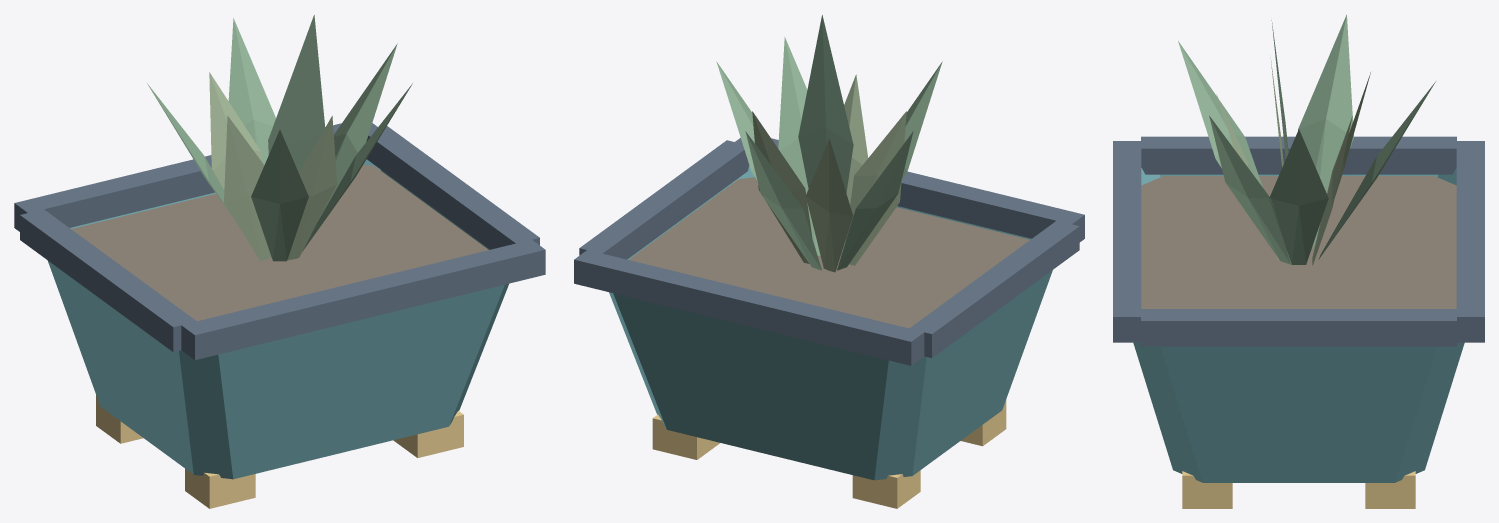
File: planter.glb
3 renders of one model, left to right at view 1: azimuth 30°, elevation 25°; view 2: azimuth 150°, elevation 25°; view 3: azimuth 270°, elevation 25°, orthographic. The views are drawn at different scales.
Parts seen in each view (by area): view 1: planter_body, planter_soil, planter_front_lip, planter_side_lip, planter_side_lip.001, planter_front_lip.001, planter_leaf_6, planter_centre_leaf, planter_leaf_5, planter_leaf_2, planter_leaf_7, planter_leaf_0 (+6 smaller); view 2: planter_body, planter_soil, planter_front_lip.001, planter_side_lip, planter_side_lip.001, planter_front_lip, planter_centre_leaf, planter_leaf_3, planter_leaf_8, planter_leaf_2, planter_leaf_4, planter_leaf_5 (+7 smaller); view 3: planter_body, planter_soil, planter_side_lip.001, planter_side_lip, planter_front_lip.001, planter_front_lip, planter_leaf_4, planter_leaf_0, planter_leaf_8, planter_leaf_6, planter_foot.002, planter_foot.003 (+3 smaller).
Part boxes in pixels (bbox=[...]): planter_body: bbox=[47, 159, 508, 479]; planter_soil: bbox=[71, 164, 488, 321]; planter_front_lip: bbox=[181, 239, 545, 359]; planter_side_lip: bbox=[20, 209, 196, 352]; planter_side_lip.001: bbox=[366, 126, 539, 249]; planter_front_lip.001: bbox=[14, 123, 377, 231]; planter_leaf_6: bbox=[251, 130, 308, 261]; planter_centre_leaf: bbox=[268, 15, 325, 172]; planter_leaf_5: bbox=[224, 116, 271, 260]; planter_leaf_2: bbox=[228, 18, 275, 164]; planter_leaf_7: bbox=[287, 116, 337, 260]; planter_leaf_0: bbox=[318, 43, 397, 220]; planter_body: bbox=[609, 165, 1052, 480]; planter_soil: bbox=[629, 177, 1029, 328]; planter_front_lip.001: bbox=[574, 250, 924, 365]; planter_side_lip: bbox=[909, 221, 1079, 358]; planter_side_lip.001: bbox=[579, 140, 749, 259]; planter_front_lip: bbox=[735, 138, 1084, 242]; planter_centre_leaf: bbox=[798, 15, 853, 192]; planter_leaf_3: bbox=[806, 138, 852, 272]; planter_leaf_8: bbox=[778, 37, 820, 255]; planter_leaf_2: bbox=[745, 131, 821, 270]; planter_leaf_4: bbox=[837, 131, 913, 270]; planter_leaf_5: bbox=[845, 111, 906, 265]; planter_body: bbox=[1133, 168, 1464, 482]; planter_soil: bbox=[1141, 176, 1456, 308]; planter_side_lip.001: bbox=[1141, 309, 1456, 346]; planter_side_lip: bbox=[1141, 136, 1456, 174]; planter_front_lip.001: bbox=[1456, 141, 1484, 342]; planter_front_lip: bbox=[1113, 141, 1141, 342]; planter_leaf_4: bbox=[1298, 14, 1353, 248]; planter_leaf_0: bbox=[1269, 129, 1328, 264]; planter_leaf_8: bbox=[1209, 115, 1290, 264]; planter_leaf_6: bbox=[1178, 41, 1262, 187]; planter_foot.002: bbox=[1182, 471, 1232, 508]; planter_foot.003: bbox=[1365, 471, 1415, 508].
Size of the model in its own units: 0.952 by 1.06 by 0.812.
